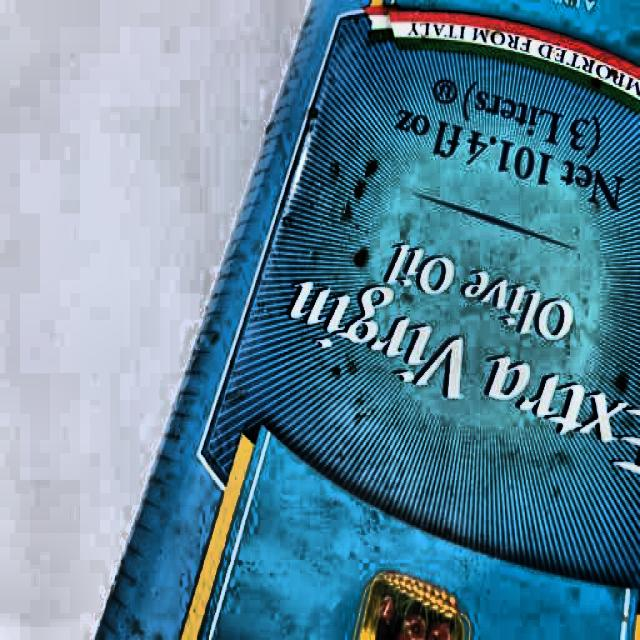metal: (96, 0, 640, 638)
